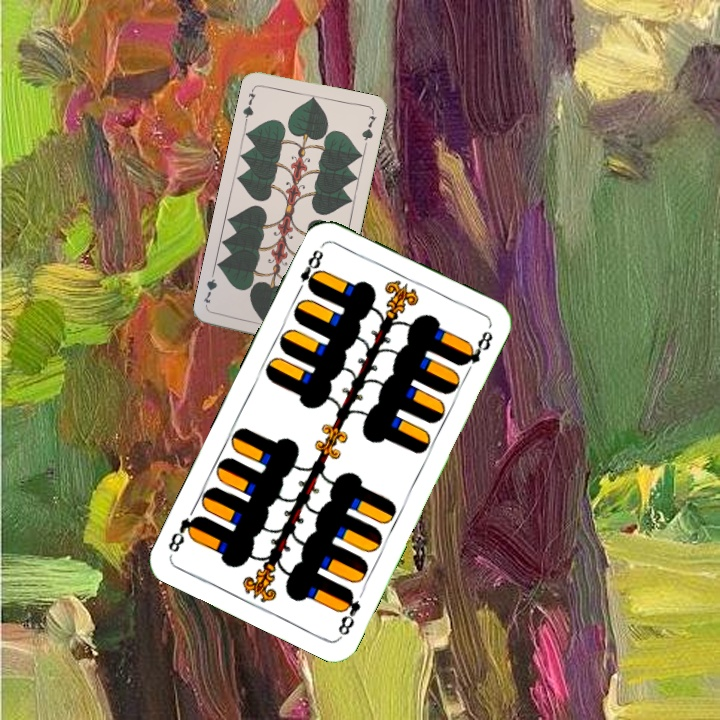E8: (293, 245, 326, 296), (334, 585, 364, 639)
G7: (239, 84, 259, 124)
